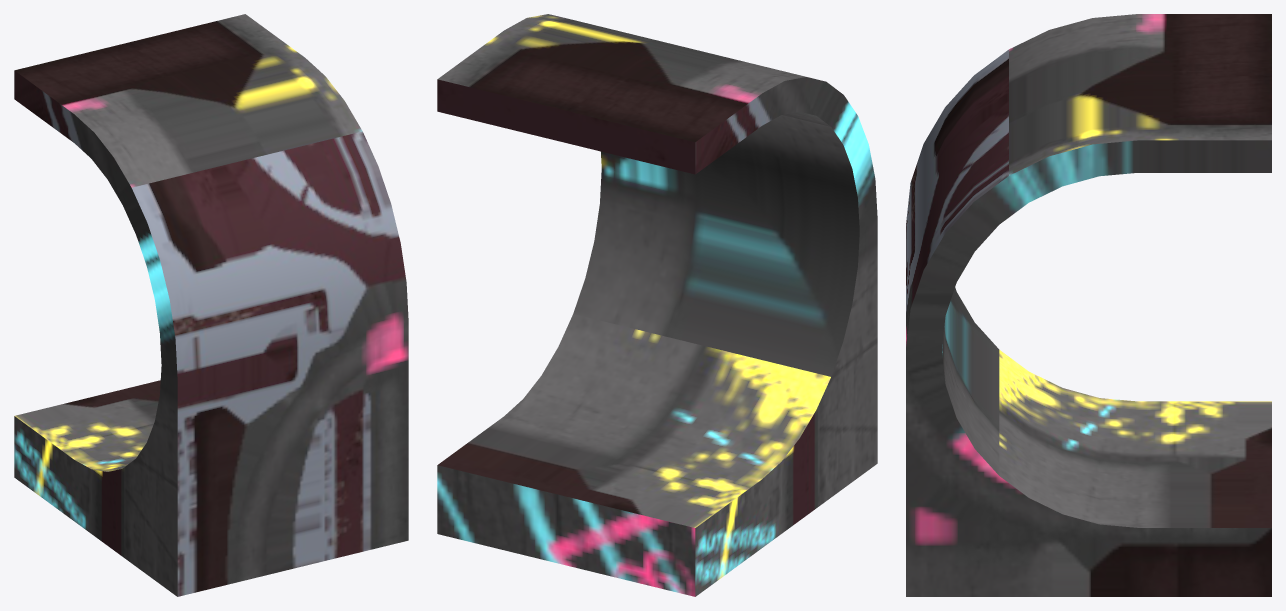
File: duct_hor_floor.fbx
3 renders of one model, left to right at view 1: azimuth 30°, elevation 25°; view 2: azimuth 150°, elevation 25°; view 3: azimuth 270°, elevation 25°, orthographic. The views are drawn at different scales.
Parts seen in each view (by area): view 1: duct_hor_01.002; view 2: duct_hor_01.002; view 3: duct_hor_01.002.
Part boxes in pixels (x1,y1,x2,y2): duct_hor_01.002: (14, 14, 408, 596); duct_hor_01.002: (437, 14, 877, 596); duct_hor_01.002: (906, 14, 1271, 596).
Bounding box in the file's own units: 1776 × 2989 × 2171.
